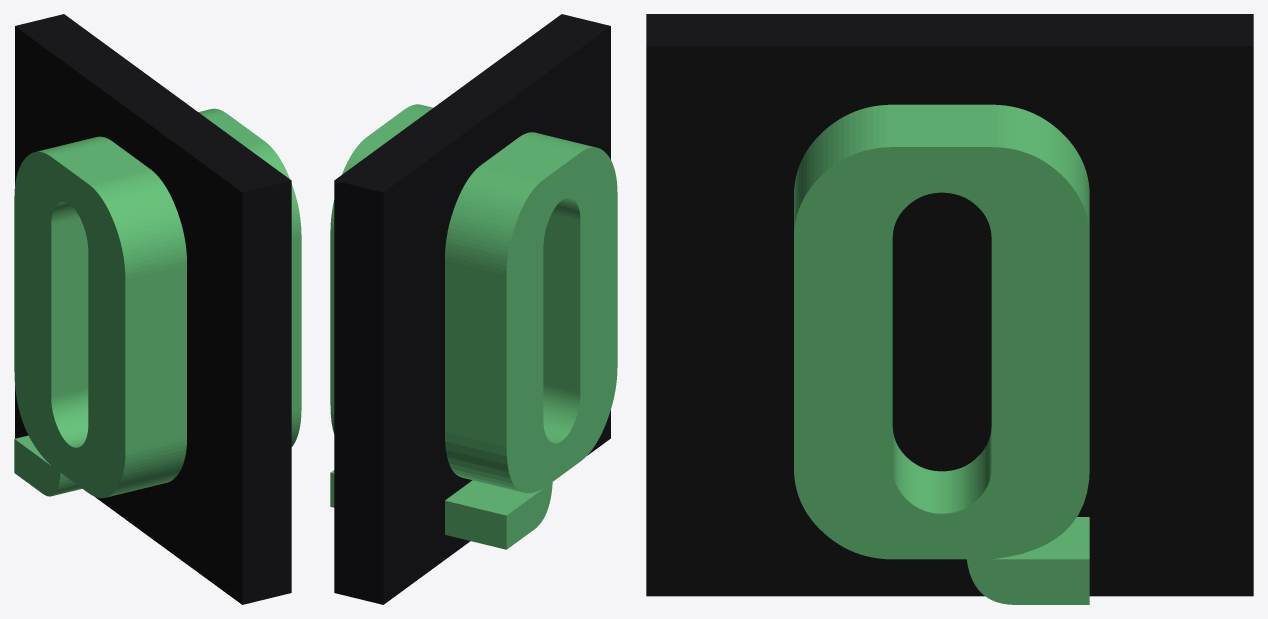
File: letter_Q.obj
The picture shows the model from 3 angles, left to right: view 1: azimuth 30°, elevation 25°; view 2: azimuth 150°, elevation 25°; view 3: azimuth 270°, elevation 25°; orthographic projection. The views are drawn at different scales.
Parts seen in each view (by area): view 1: window, Text; view 2: window, Text; view 3: window, Text.
Part boxes in pixels (box(x1,y1,x2,y2)): window: box(15, 14, 291, 604); Text: box(14, 108, 301, 498); window: box(334, 14, 610, 604); Text: box(330, 104, 617, 549); window: box(646, 14, 1253, 596); Text: box(794, 104, 1089, 604).
Bounding box in the file's own units: 0.894 × 2 × 2.
